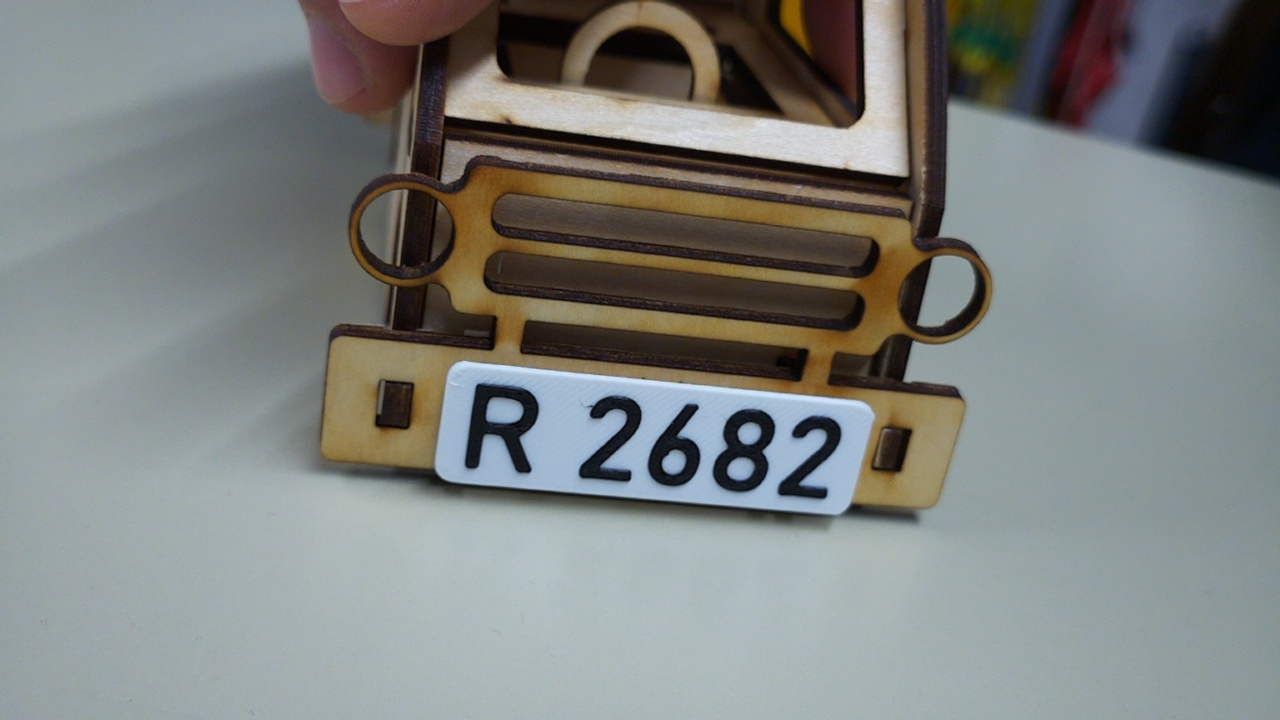license_plate: (431, 357, 877, 519)
